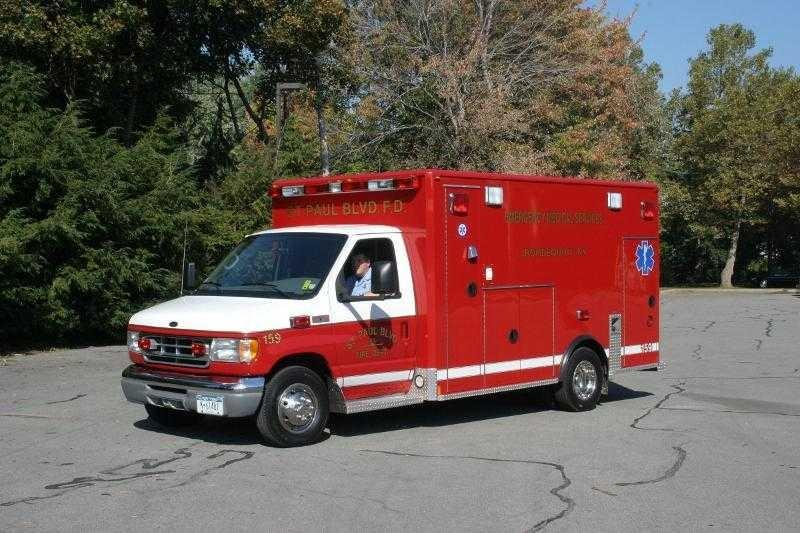car: (120, 167, 662, 447)
